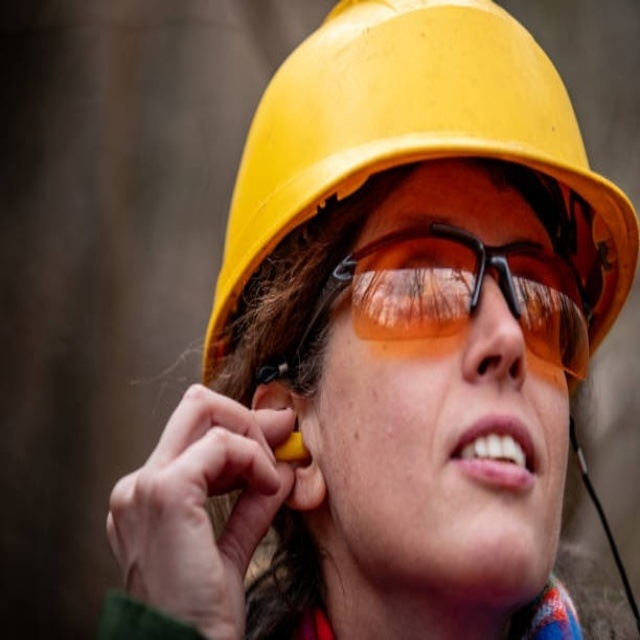Gafas: (323, 218, 594, 381)
Sin_guantes: (106, 379, 301, 640)
Sin_mascara: (433, 392, 553, 543)
